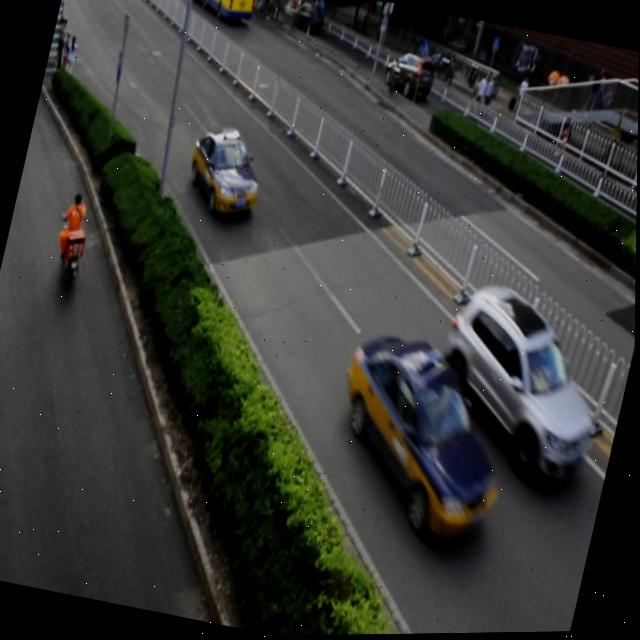car: (319, 326, 529, 552), (419, 277, 617, 488), (180, 122, 270, 223), (379, 47, 436, 106), (285, 0, 326, 36)
van: (182, 0, 257, 24)
